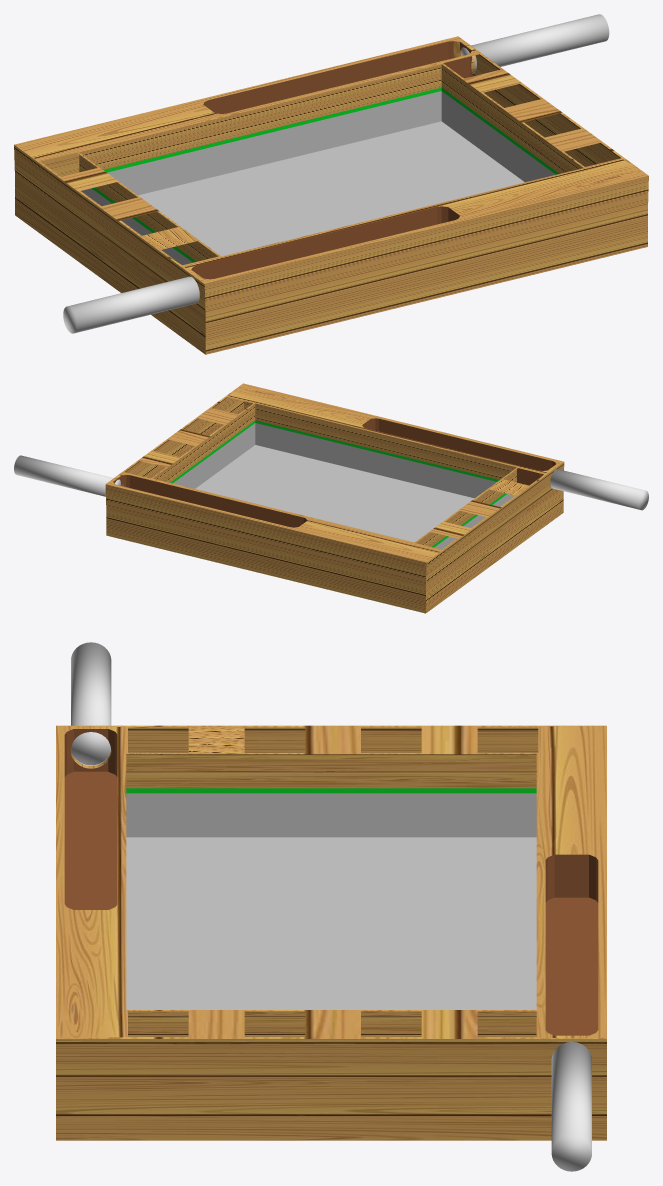
The model's file is tabletcha.fbx.
3 views of the same model, one above another, from view 1: azimuth 30°, elevation 25°; view 2: azimuth 150°, elevation 25°; view 3: azimuth 270°, elevation 25° (orthographic). The views are drawn at different scales.
Parts seen in each view (by area): view 1: Cube, Circle.015; view 2: Cube, Circle.015; view 3: Cube, Circle.015.
Boxes of the visible parts, x1,y1,x2,y2 form: Cube: [14, 36, 648, 354]; Circle.015: [63, 14, 609, 333]; Cube: [105, 383, 564, 613]; Circle.015: [14, 455, 648, 510]; Cube: [56, 725, 606, 1140]; Circle.015: [71, 642, 591, 1171].
Size of the model in its own units: 3249 by 315 by 1536.
